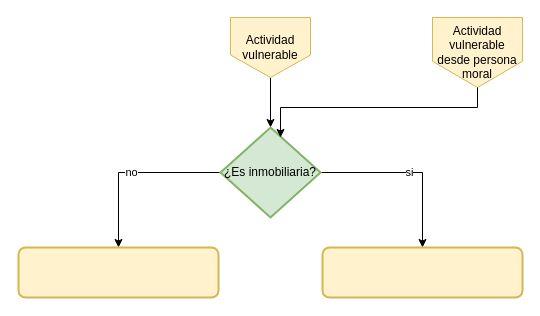
Some shapes in this 540 by 316 pixel diagram are drawn without their labels. The centre of each missing label's shape, as x and y in pixels:
selecciona por defecto: FE PÚBLICA (NOTARIOS Y CORREDORES): [118,272]
selecciona por defecto: TRANSMISION DE BIENES INMUEBLES: [422,272]
